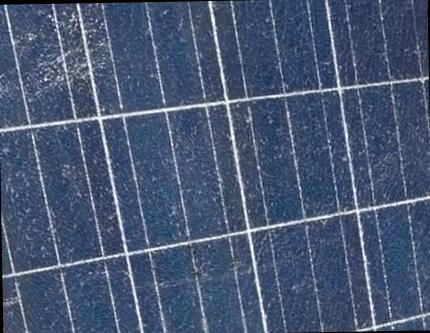Crack: (22, 4, 113, 104)
